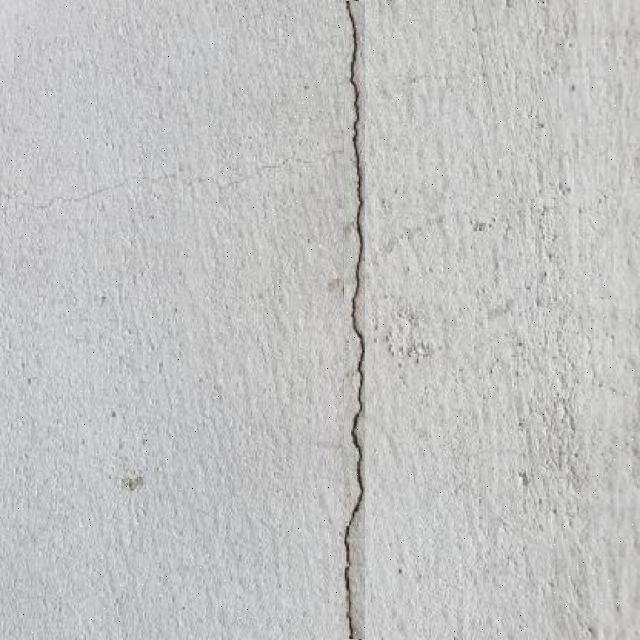crack: (340, 0, 368, 639)
